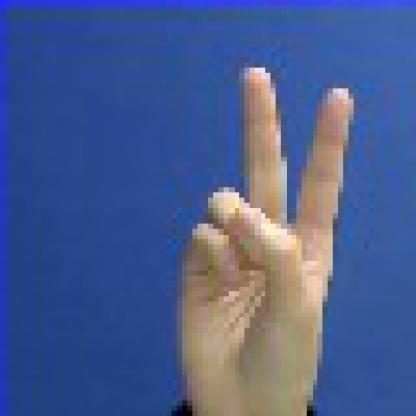two: (161, 57, 364, 411)
